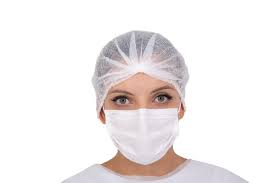with_mask_and_cap: (95, 31, 186, 164)
